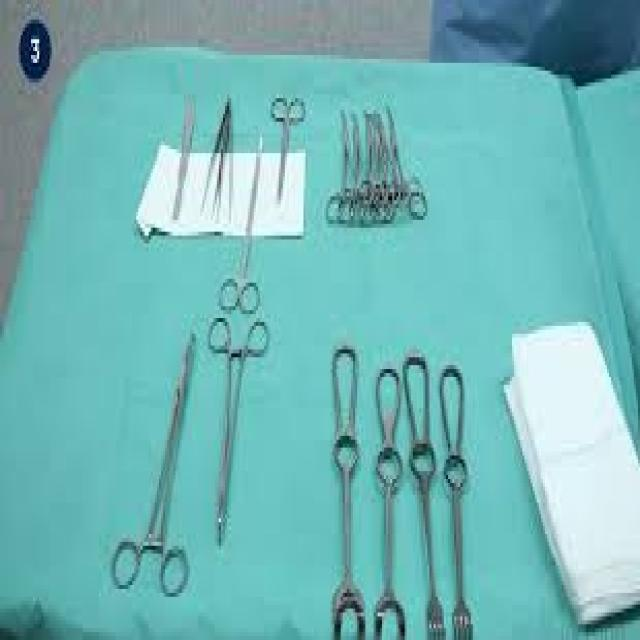tools_table: (65, 51, 640, 640)
